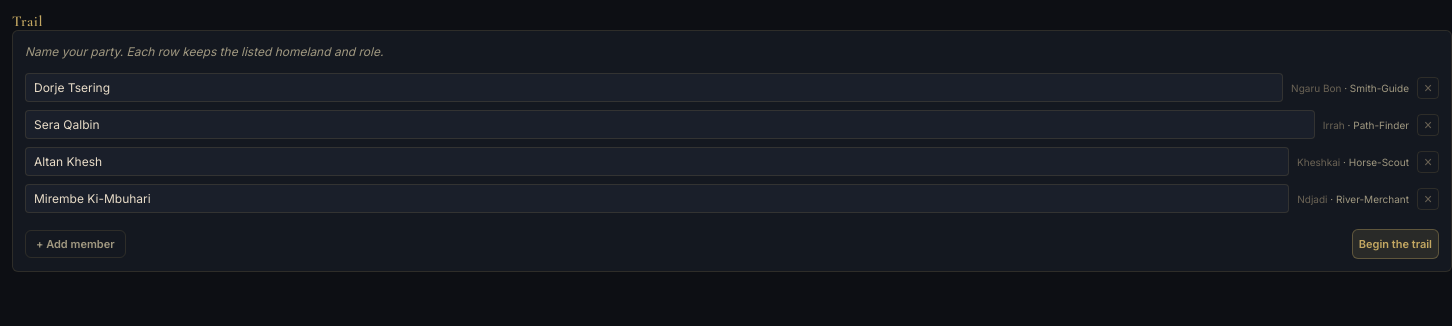
it: TrailMode: setup card › allows adding and removing rows within [2,5]
Click the button with test id "trail-roster-add" at (75, 244), box [25, 230, 126, 258]
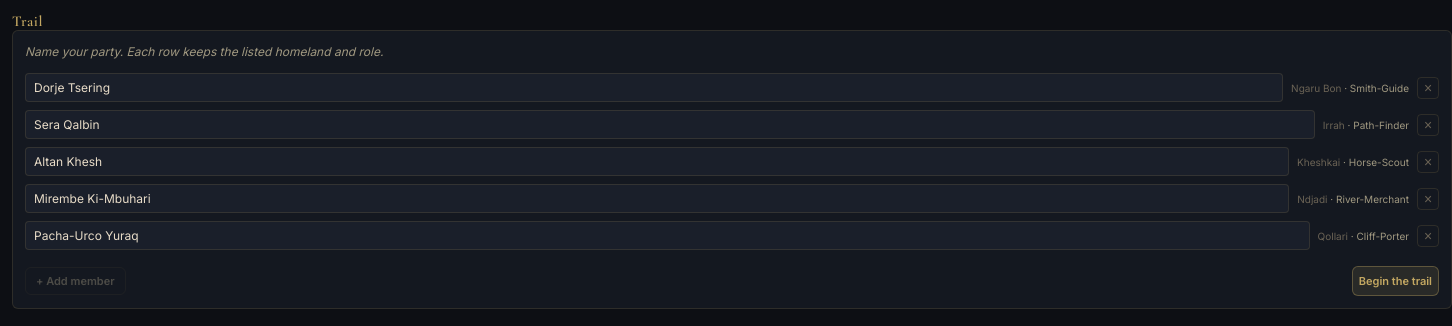
Click the button with test id "trail-roster-remove-4" at (1428, 236), box [1417, 224, 1439, 246]
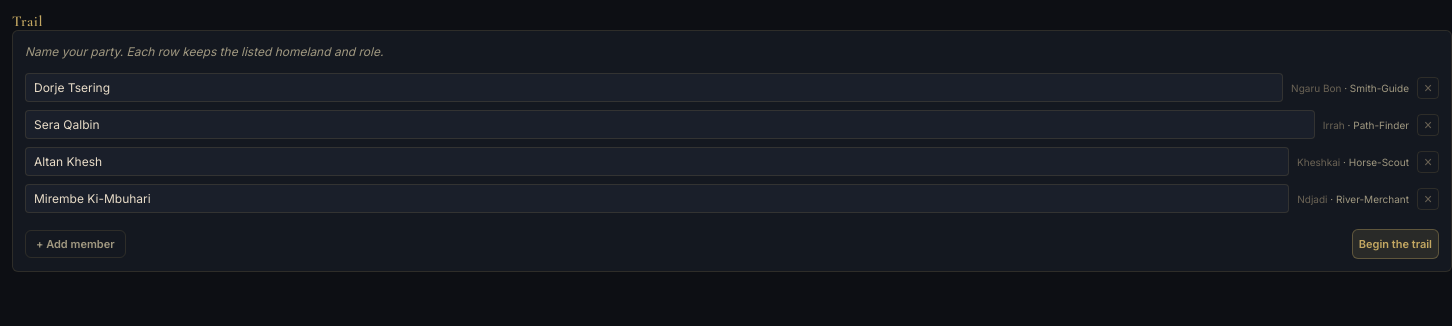
Click the button with test id "trail-roster-remove-0" at (1428, 88), box [1417, 76, 1439, 98]
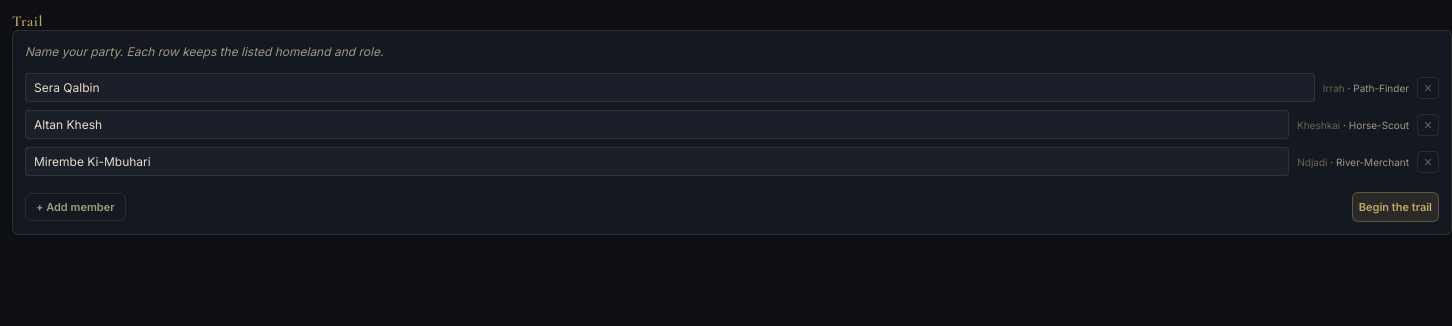
Click the button with test id "trail-roster-remove-0" at (1428, 88), box [1417, 76, 1439, 98]
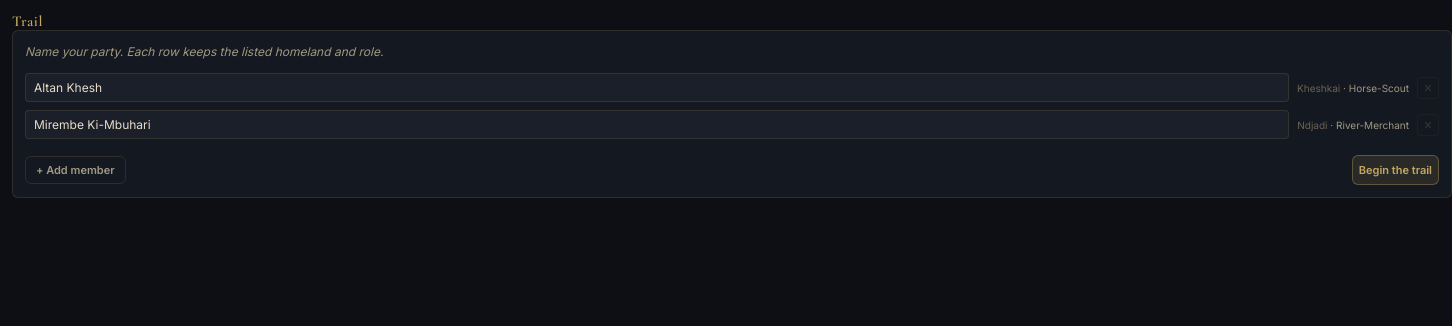
Check: the button with test id "trail-roster-remove-0" is disabled, box [1417, 76, 1439, 98]
